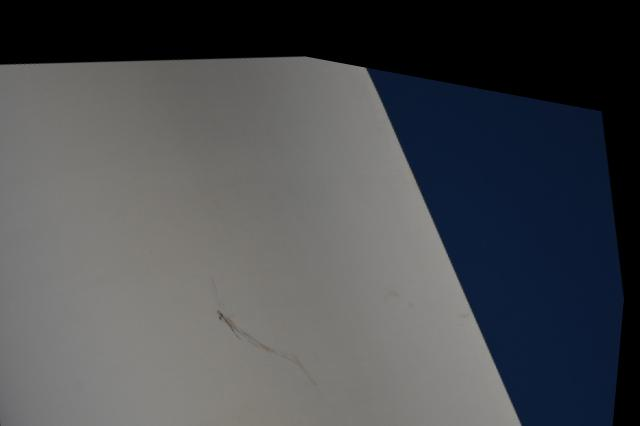damage: (215, 281, 326, 390)
